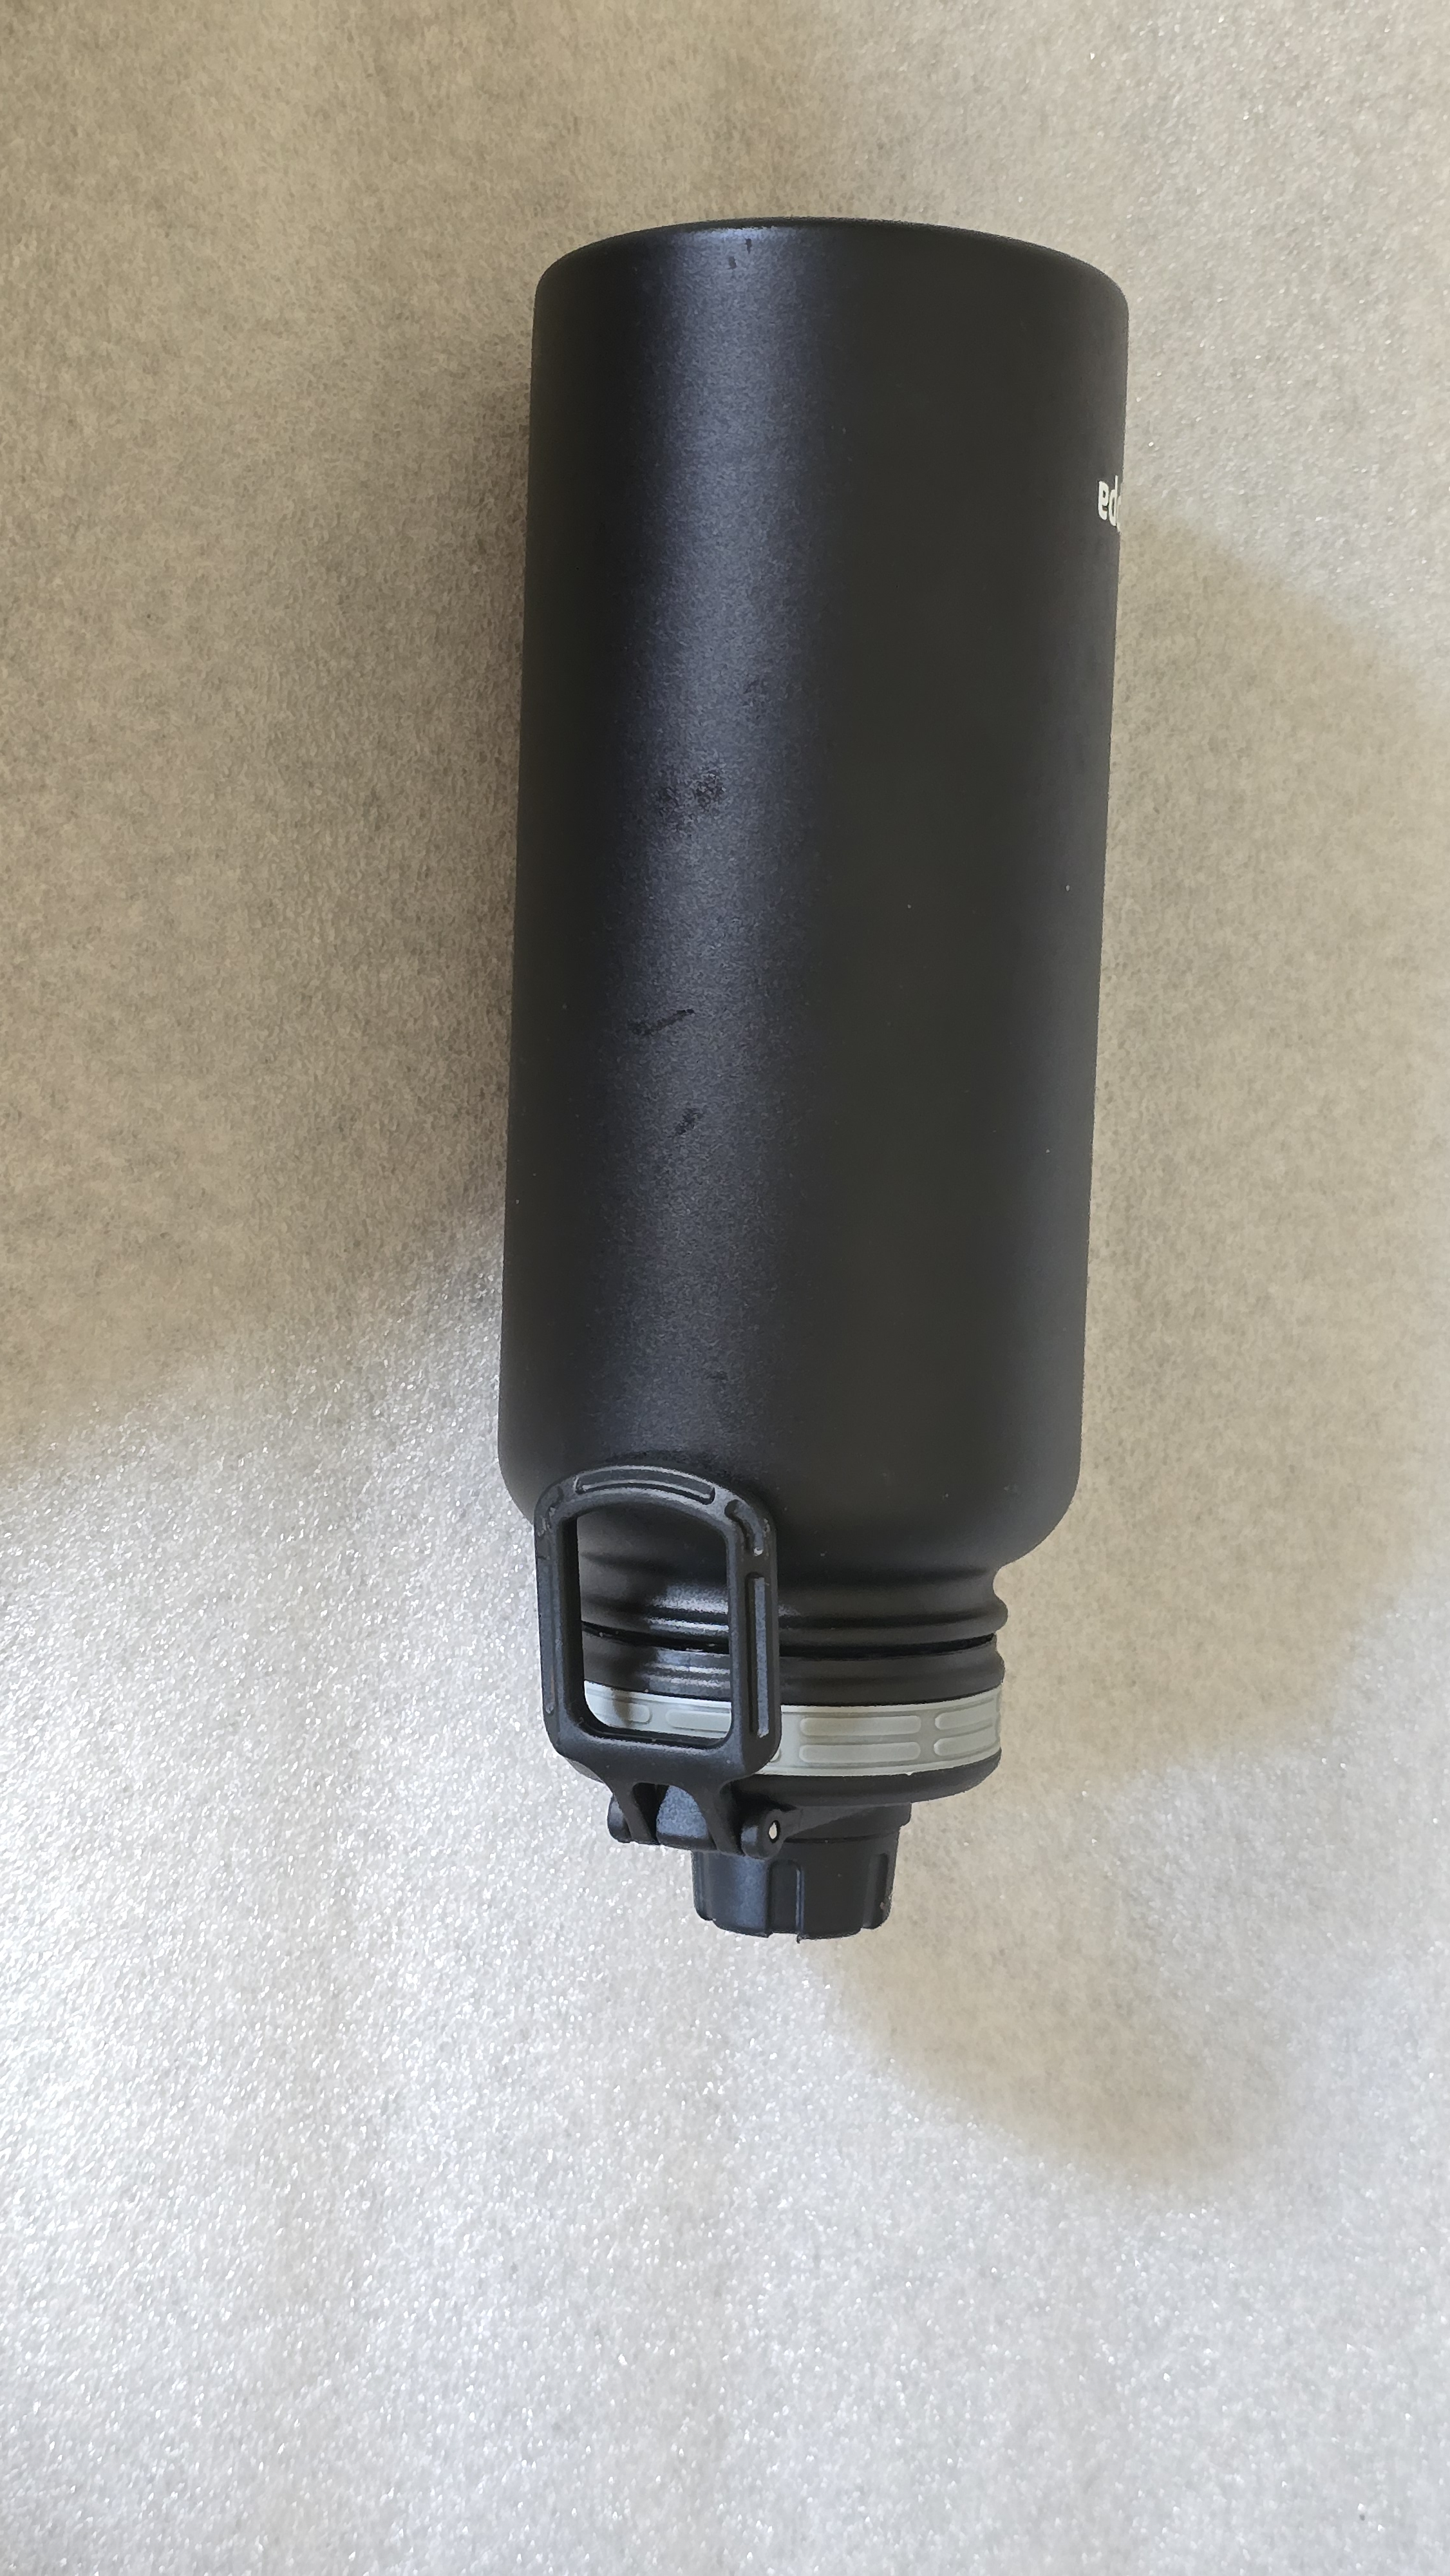bottle: (453, 150, 1164, 1976)
